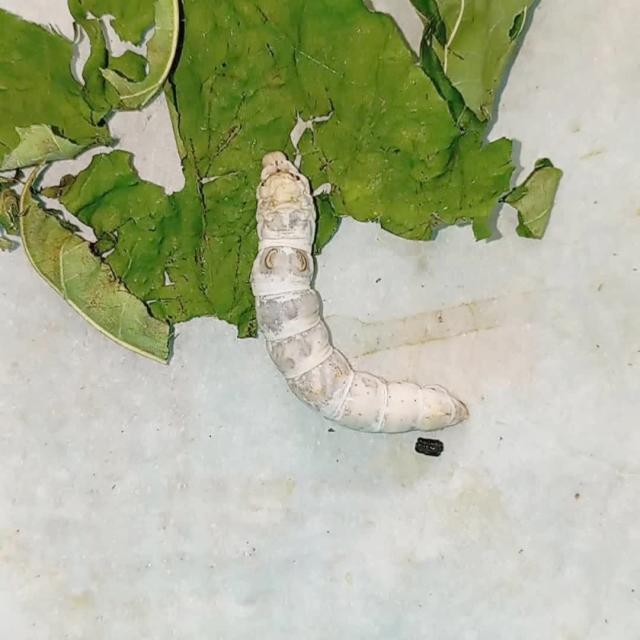Grasserie: (200, 133, 486, 460)
